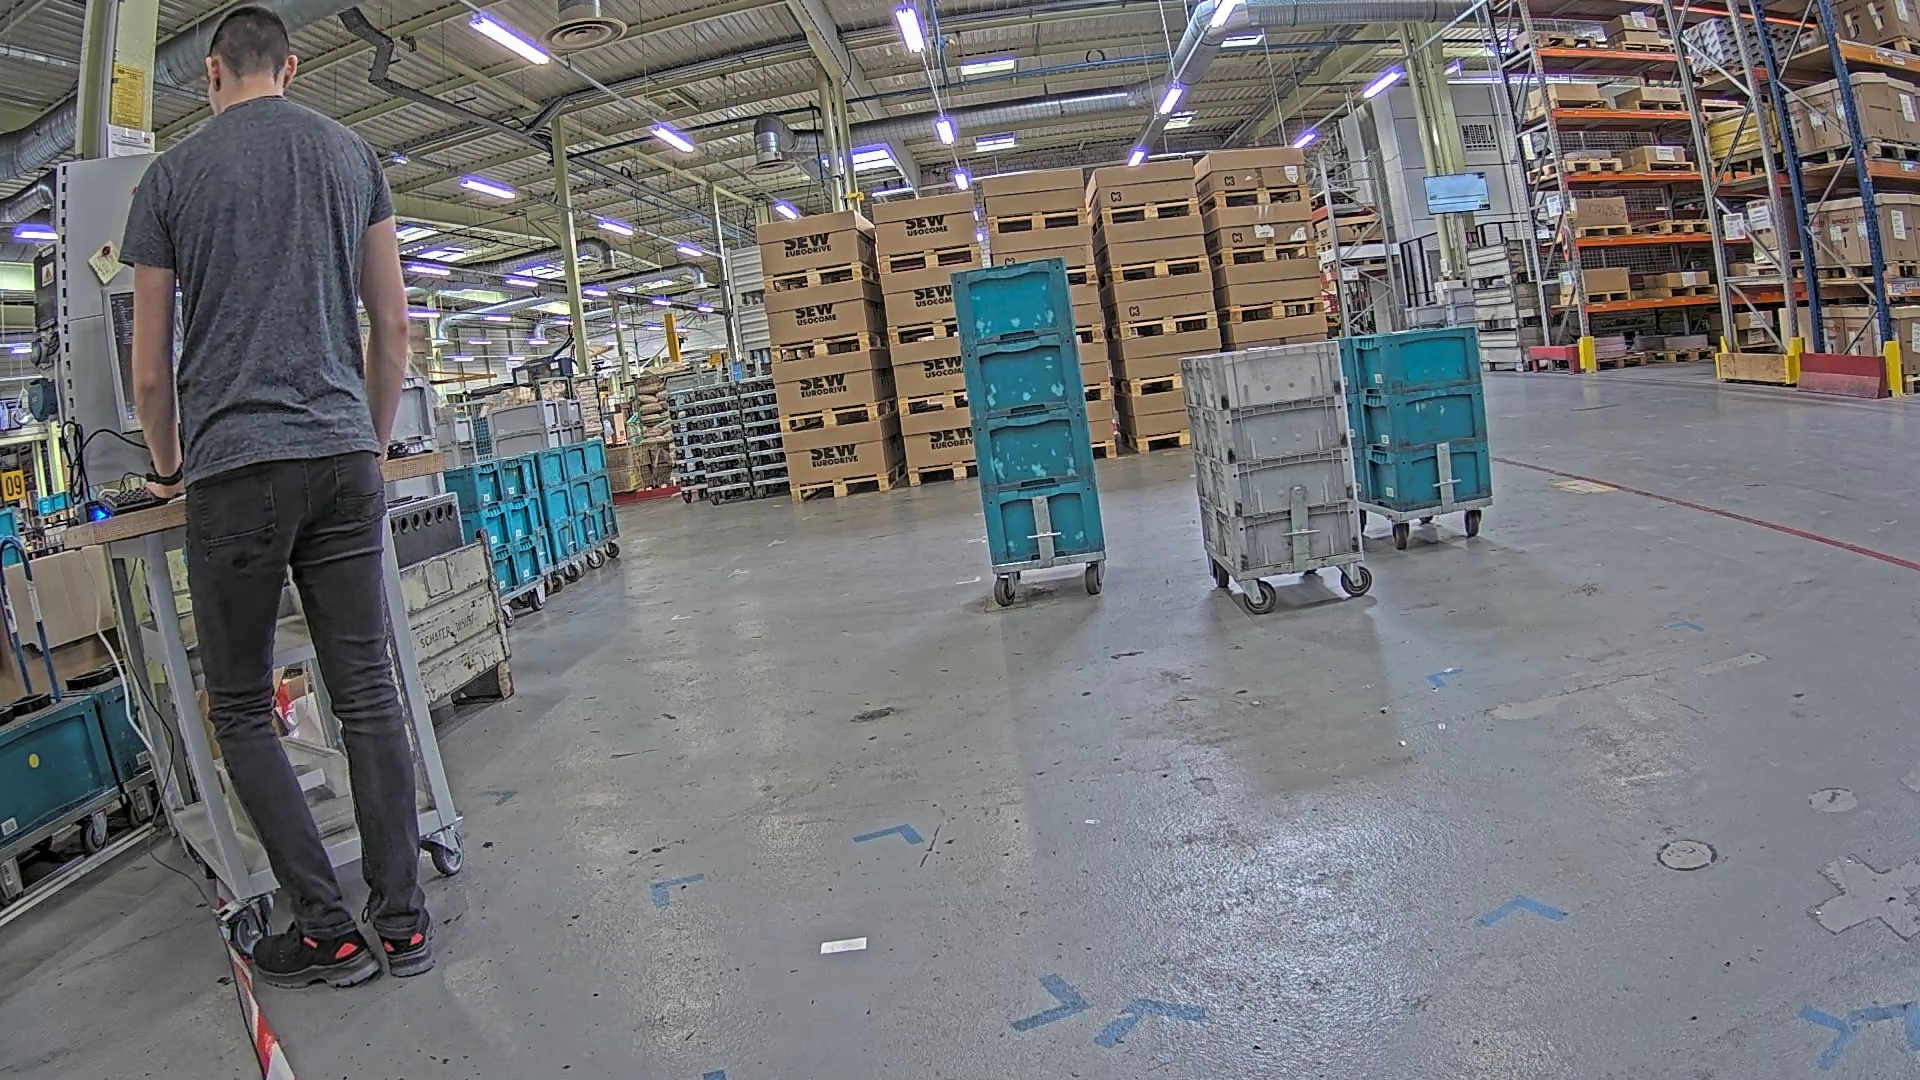8G: (1205, 339, 1365, 576)
B4: (949, 255, 1110, 568)
B8: (1374, 322, 1491, 512)
